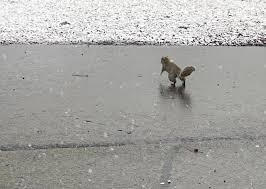squirrel: (157, 56, 197, 90)
